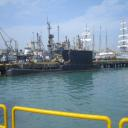submarine: (7, 52, 105, 78)
